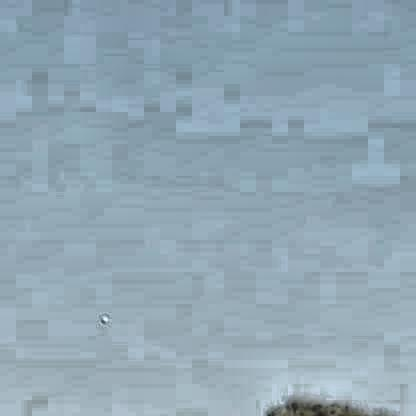golfball: (98, 314, 107, 321)
